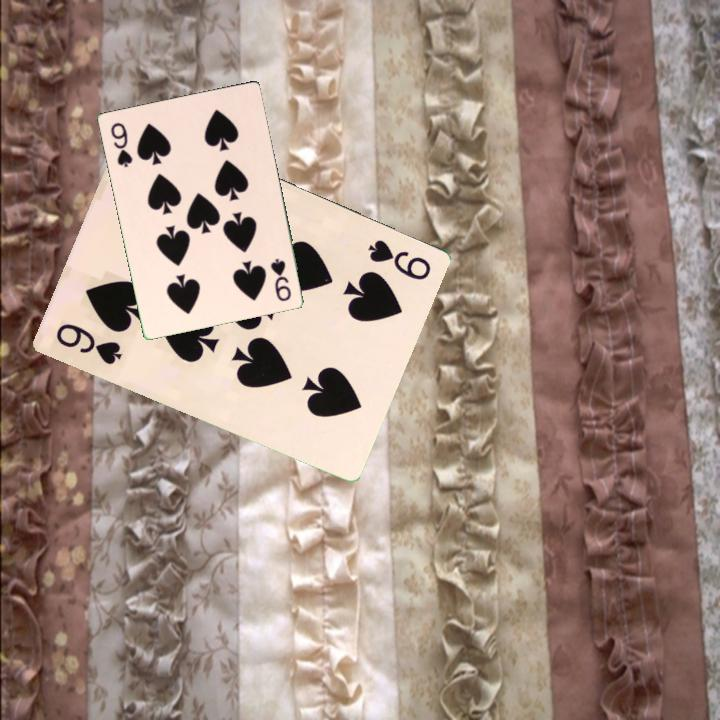9s: (52, 320, 124, 368), (363, 236, 433, 284), (107, 119, 135, 170), (267, 255, 294, 304)
